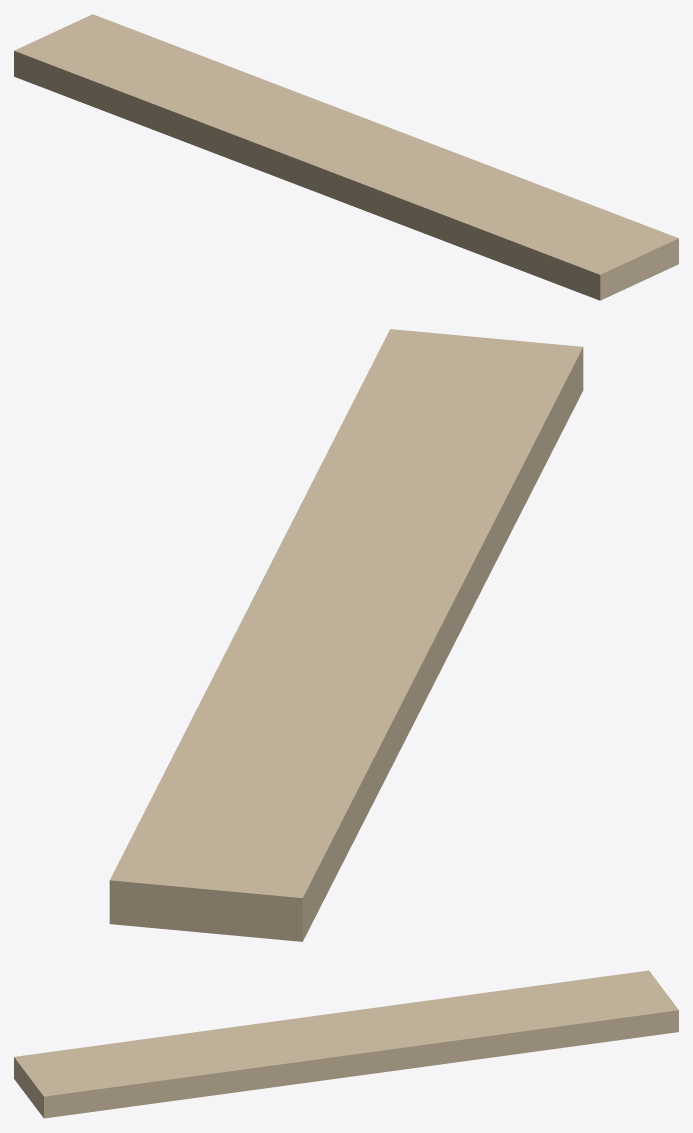
File: -17_-5-estimated-coarse.glb
3 views of the same model, one above another, from view 1: azimuth 30°, elevation 25°; view 2: azimuth 150°, elevation 25°; view 3: azimuth 270°, elevation 25° (orthographic). The views are drawn at different scales.
Size of the model in its own units: 149 by 12 by 331.
